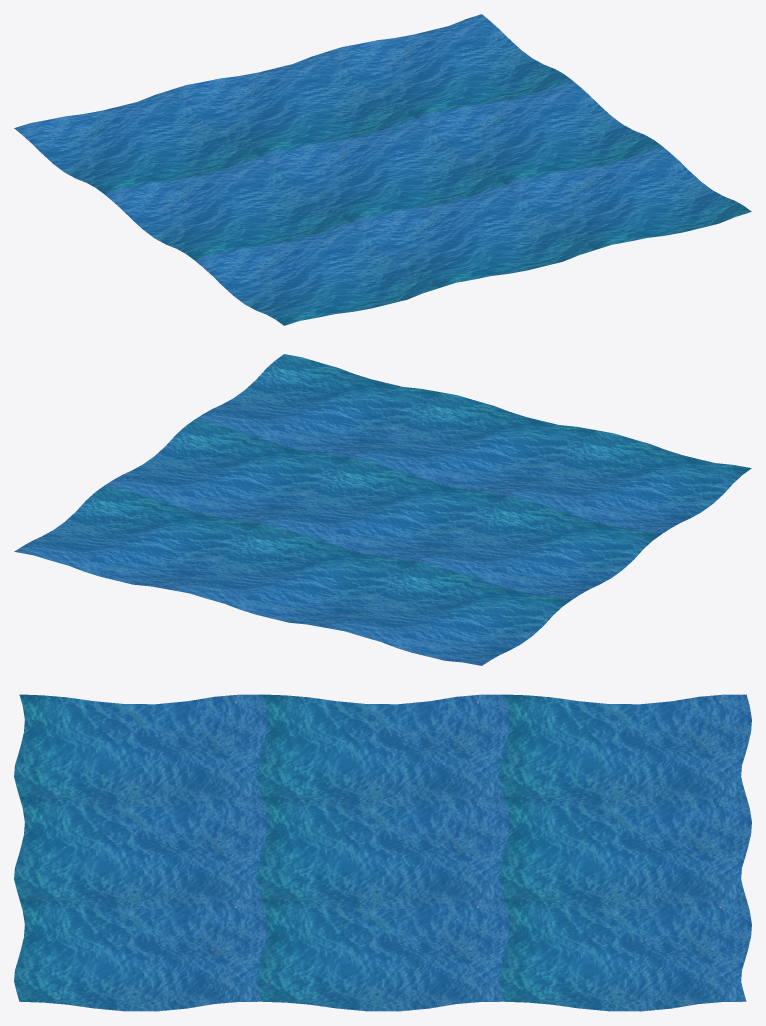
The model's file is ocean_000252.obj.
The picture shows the model from 3 angles, top to bottom: view 1: azimuth 30°, elevation 25°; view 2: azimuth 150°, elevation 25°; view 3: azimuth 270°, elevation 25°; orthographic projection. The views are drawn at different scales.
Parts seen in each view (by area): view 1: Ocean_Plan.001; view 2: Ocean_Plan.001; view 3: Ocean_Plan.001.
Part boxes in pixels (x1,y1,x2,y2): Ocean_Plan.001: (14,14,751,325); Ocean_Plan.001: (14,354,751,665); Ocean_Plan.001: (14,694,751,1011).
Size of the model in its own units: 109193 by 2392 by 110601.
1 material, 1 textured.
